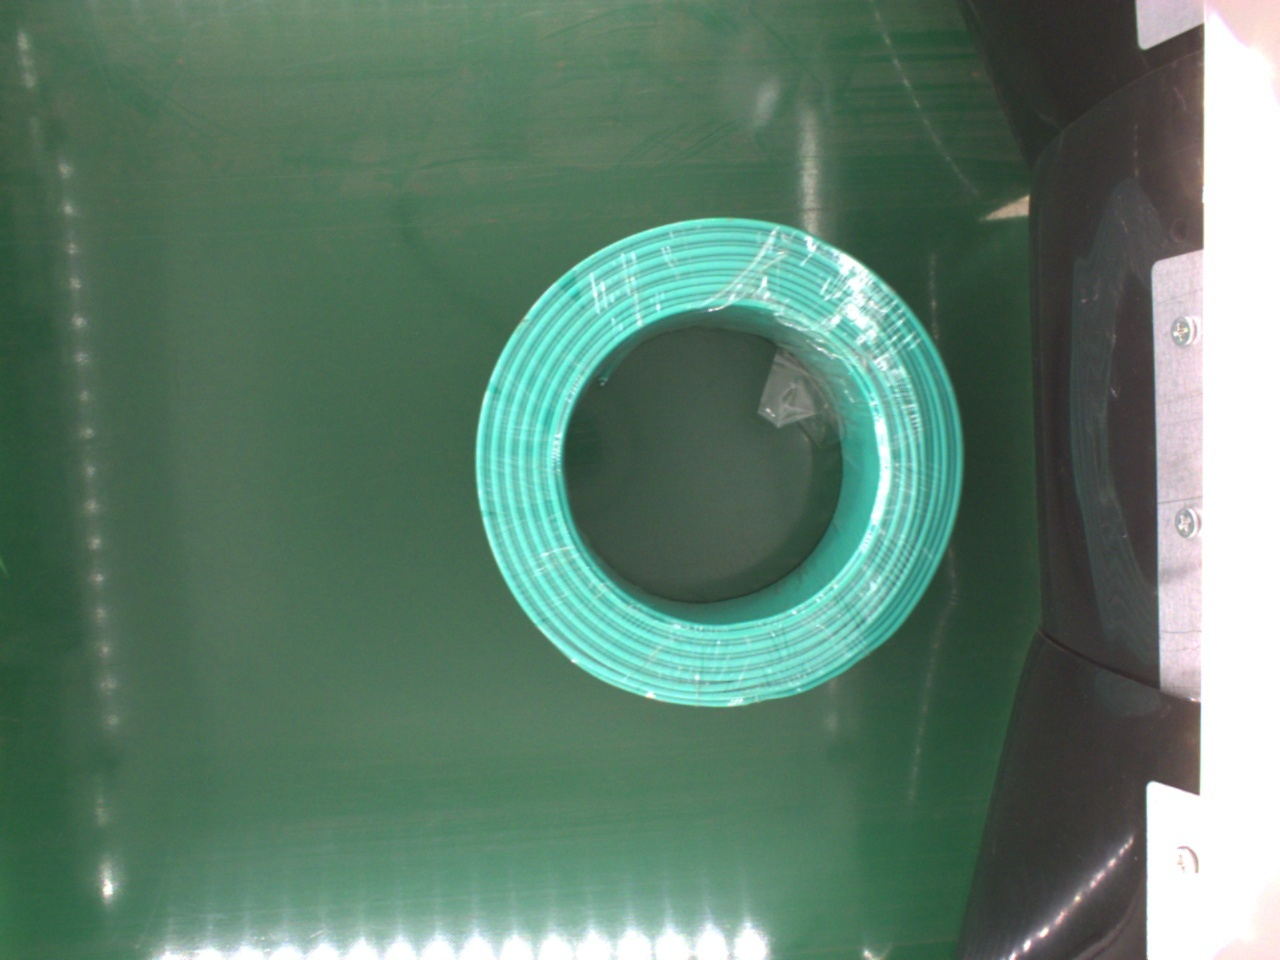green: (477, 215, 965, 709)
